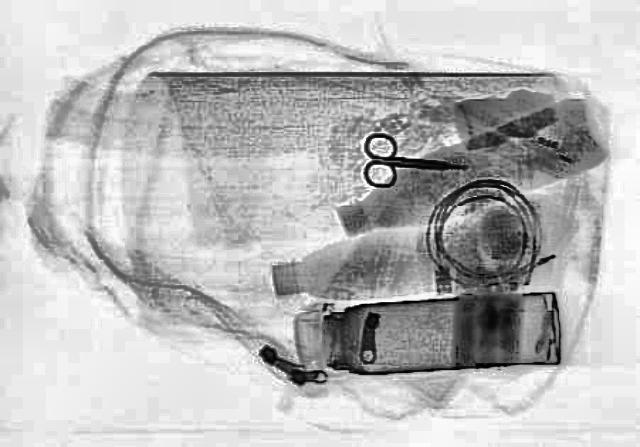Scissors: (355, 132, 471, 192)
